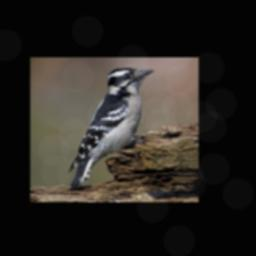Woodpecker: (68, 65, 155, 192)
